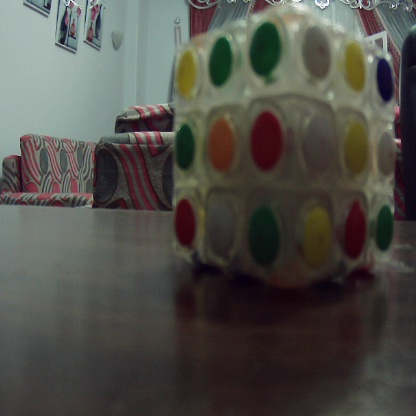Rubix Cube: (172, 5, 396, 290)
